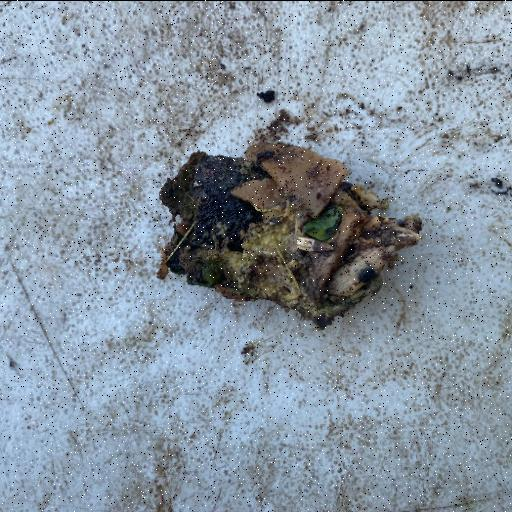Waste: (155, 138, 423, 330)
